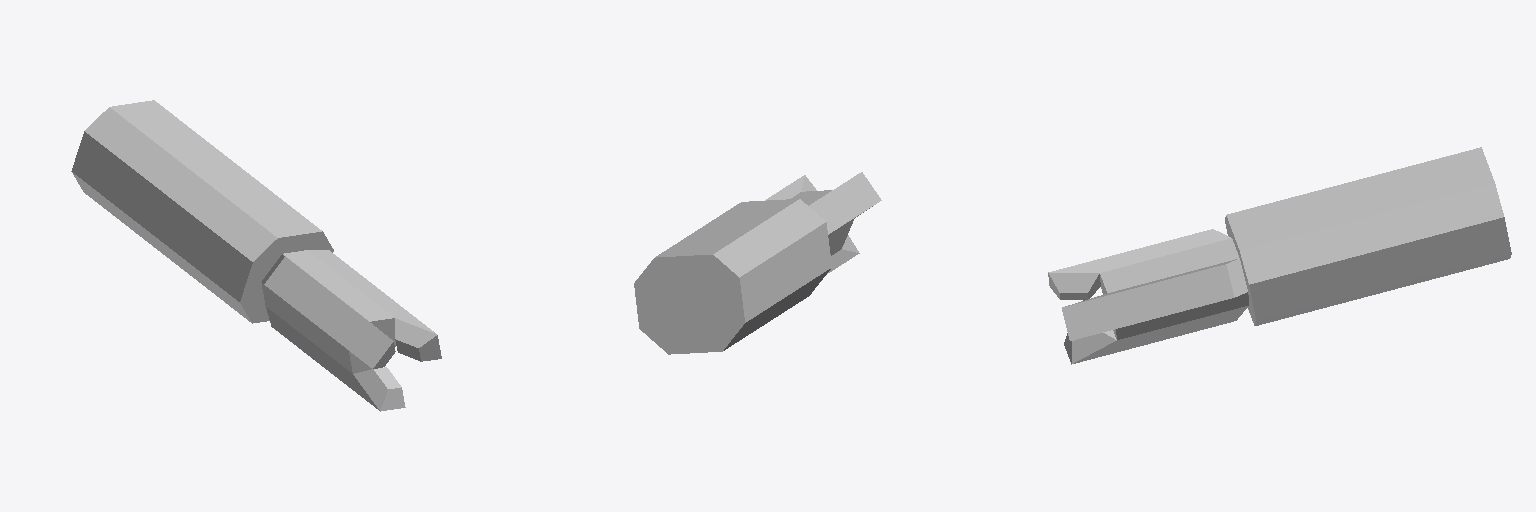
Rendered from LGun.obj.
3 renders of one model, left to right at view 1: azimuth 30°, elevation 25°; view 2: azimuth 150°, elevation 25°; view 3: azimuth 270°, elevation 25°, orthographic.
Visible parts, largest first — view 1: LGun; view 2: LGun; view 3: LGun.
Part boxes in pixels (x1,y1,x2,y2): LGun: (71, 100, 441, 411); LGun: (634, 172, 881, 354); LGun: (1048, 147, 1511, 364).
Size of the model in its own units: 9.73 by 9.94 by 24.14.